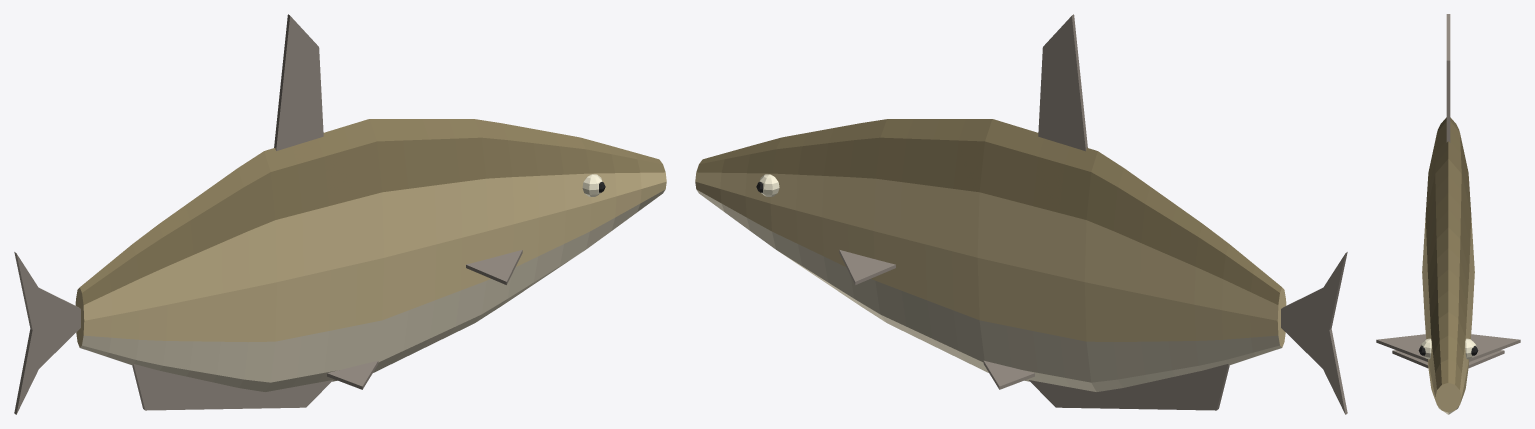
Rendered from brasse.glb.
3 views of the same model, side by side, from view 1: azimuth 30°, elevation 25°; view 2: azimuth 150°, elevation 25°; view 3: azimuth 270°, elevation 25° (orthographic). The views are drawn at different scales.
Parts seen in each view (by area): view 1: brasse; view 2: brasse; view 3: brasse.
Part boxes in pixels (x1=…): brasse: x1=14, y1=14, x2=666, y2=414; brasse: x1=695, y1=14, x2=1347, y2=414; brasse: x1=1376, y1=14, x2=1520, y2=414.
Size of the model in its own units: 1 by 0.5876 by 0.2183.
